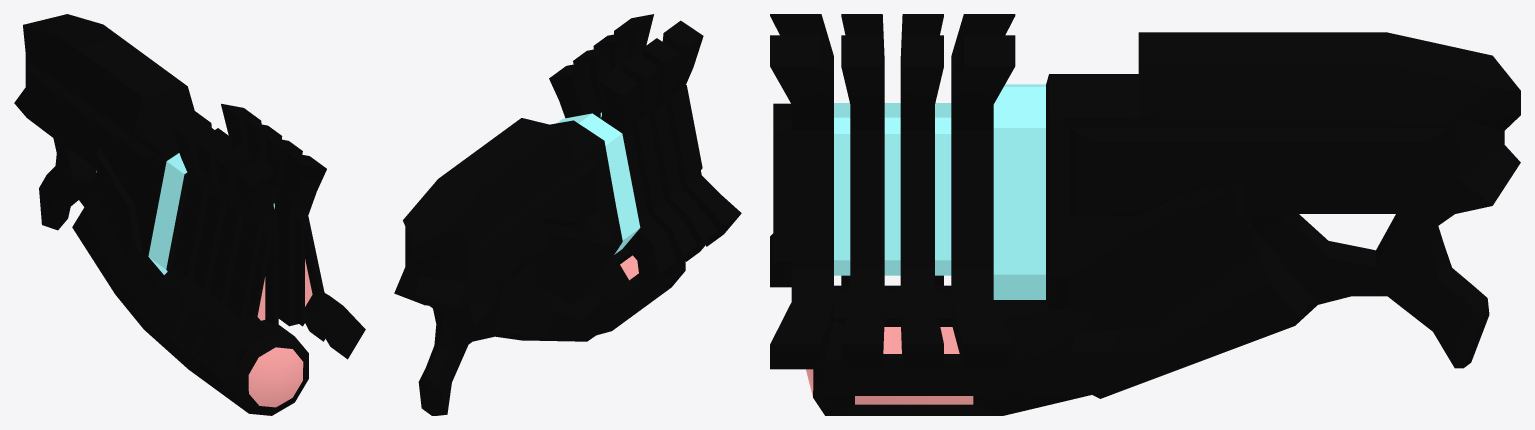
The model's file is Gun.glb.
The picture shows the model from 3 angles, left to right: view 1: azimuth 30°, elevation 25°; view 2: azimuth 150°, elevation 25°; view 3: azimuth 270°, elevation 25°; orthographic projection. The views are drawn at different scales.
Visible parts, largest first — view 1: SciFi_gun_carbine; view 2: SciFi_gun_carbine; view 3: SciFi_gun_carbine.
Boxes of the visible parts, x1,y1,x2,y2 form: SciFi_gun_carbine: (14,14,365,415); SciFi_gun_carbine: (394,14,741,415); SciFi_gun_carbine: (770,14,1520,415).
Size of the model in its own units: 0.1666 by 0.277 by 0.4892.
Materials: 1 (1 with a texture image).
